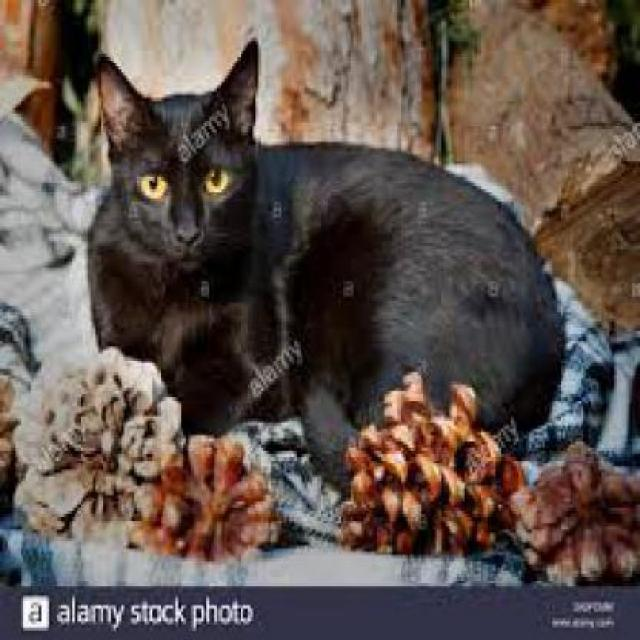animals: (82, 44, 553, 419)
